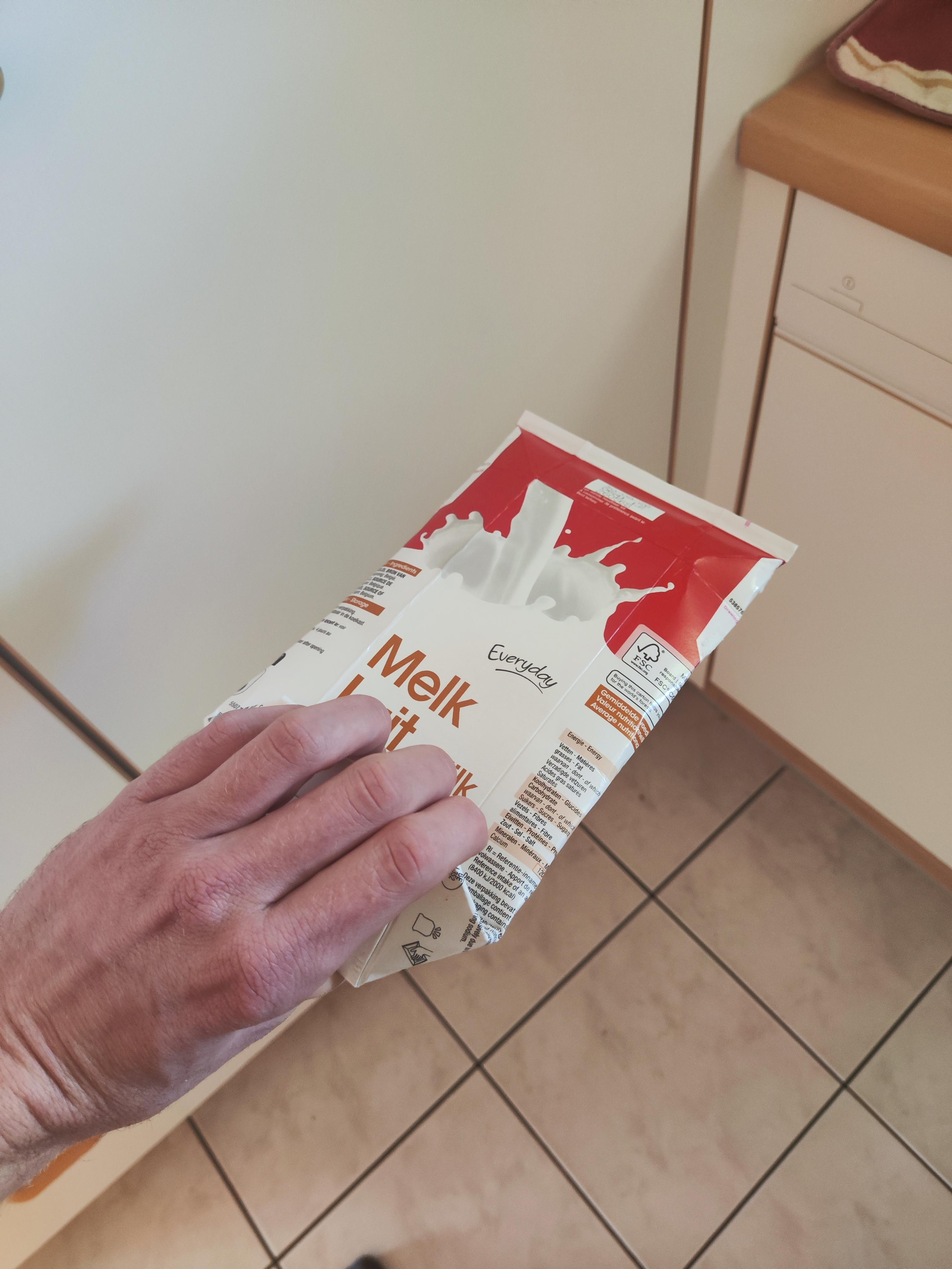Cardboard: (194, 406, 805, 989)
